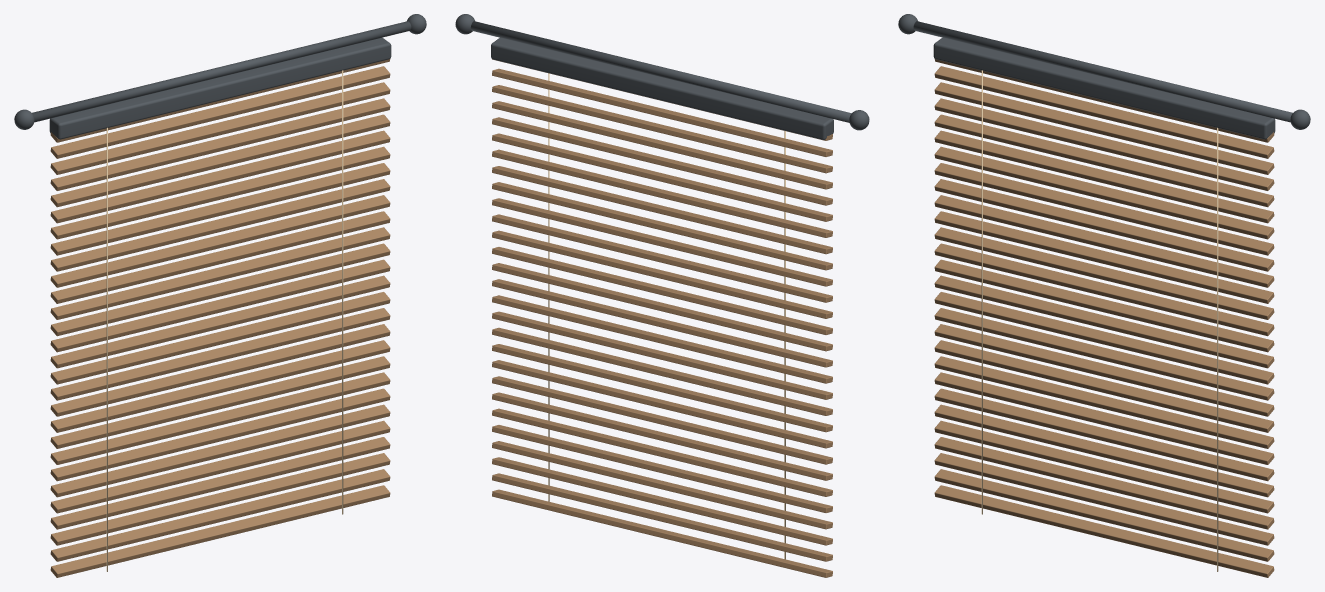
The model's file is atelier-bamboo-blinds.glb.
The picture shows the model from 3 angles, left to right: view 1: azimuth 30°, elevation 25°; view 2: azimuth 150°, elevation 25°; view 3: azimuth 330°, elevation 25°; orthographic projection.
Visible parts, largest first — view 1: legs.109, metal.057, accent.015; view 2: legs.109, metal.057, accent.015; view 3: legs.109, metal.057, accent.015.
Part boxes in pixels (x1,y1,x2,y2): legs.109: (50,59,390,577); metal.057: (14,14,426,139); accent.015: (106,70,343,571); legs.109: (492,59,832,577); metal.057: (455,14,869,139); accent.015: (548,73,785,559); legs.109: (934,59,1274,577); metal.057: (898,14,1310,139); accent.015: (981,70,1218,571).
Bounding box in the file's own units: 2.09 × 2.32 × 0.0899.
